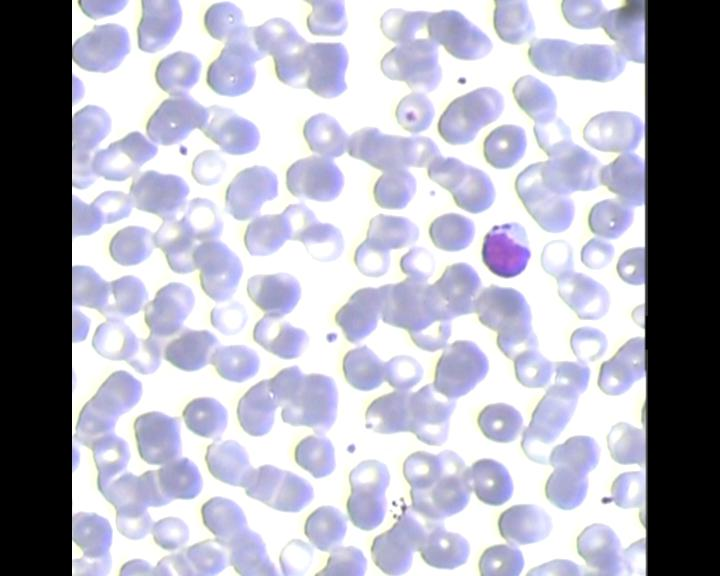lymp: (476, 217, 534, 281)
